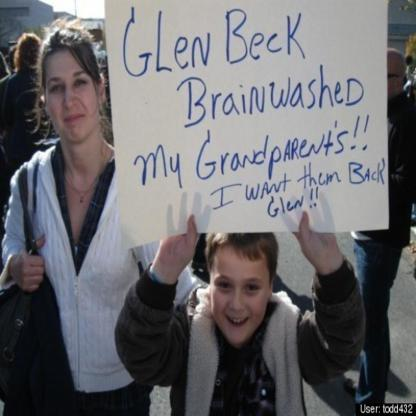face: (212, 240, 268, 344), (47, 49, 100, 141)
